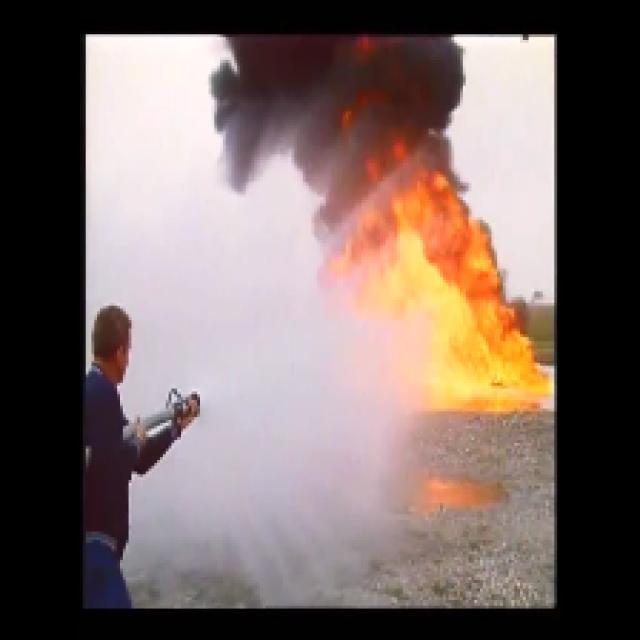Fire: (394, 232, 526, 404)
Smoke: (232, 44, 441, 156)
